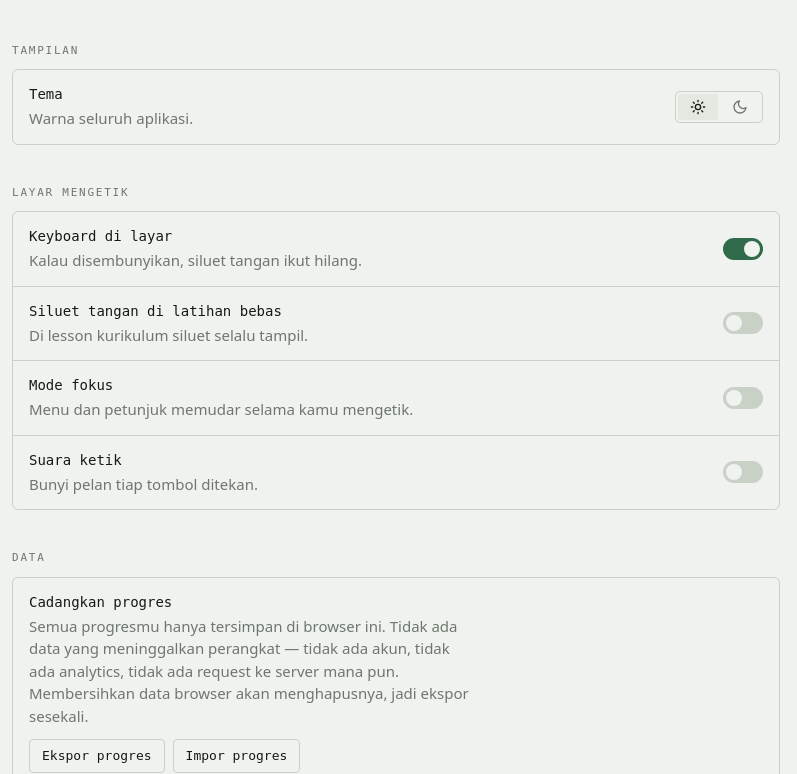
Test: /settings (Fase 8) › ekspor mengunduh berkas typing-progress-YYYY-MM-DD.json
Step 1. Click the button "Ekspor progres" → click(97, 756), box 29,739 -> 165,772
(page scrolled)
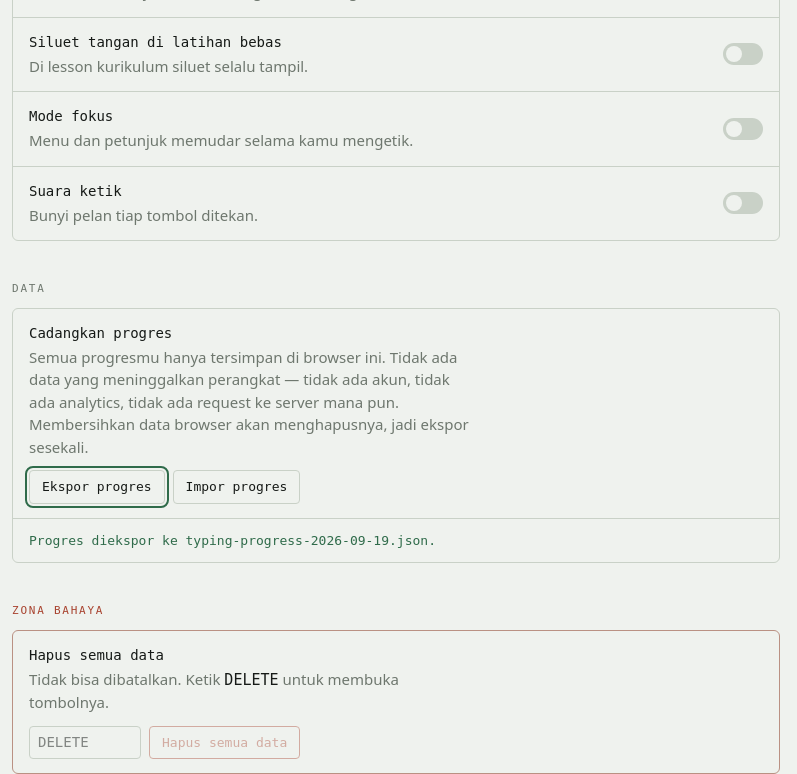
Expected: the message reads "Progres diekspor ke typing-progress-2026-09-19.json.", 29,532 -> 436,548
